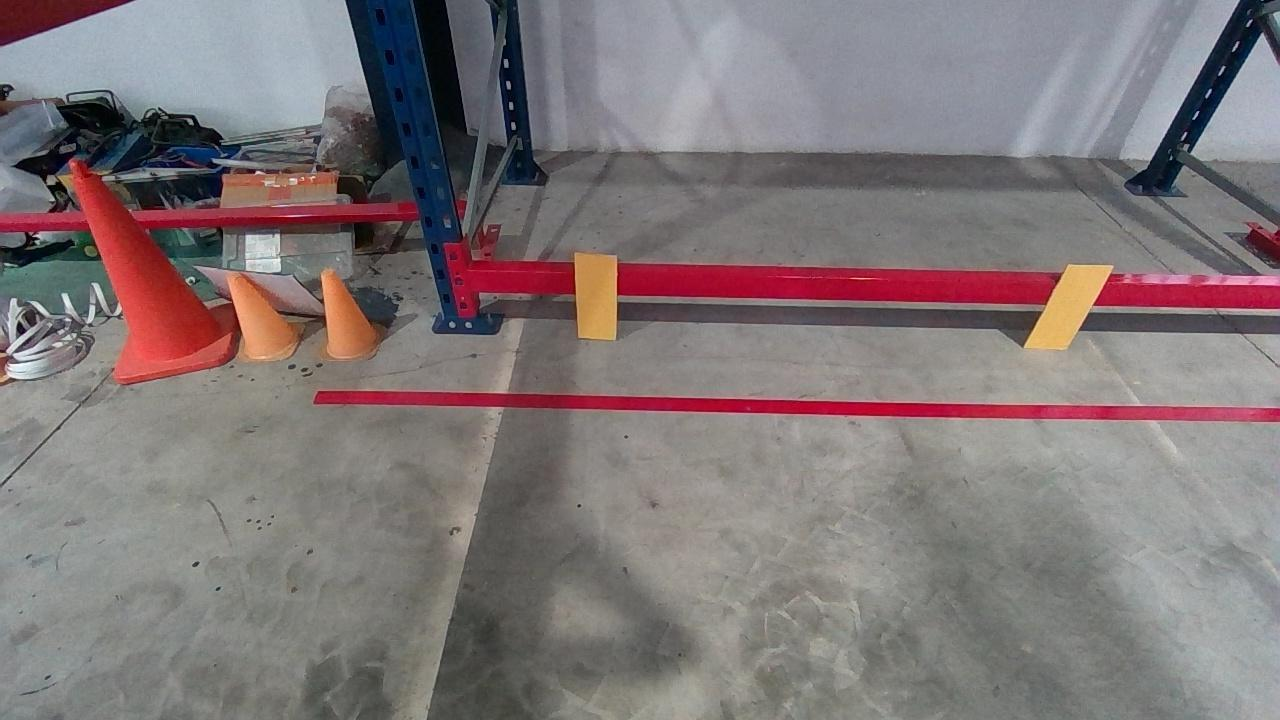h_rack: (469, 270, 1279, 309)
orange_strip: (1024, 263, 1119, 348), (572, 253, 617, 340)
red_line: (314, 390, 1276, 424)
